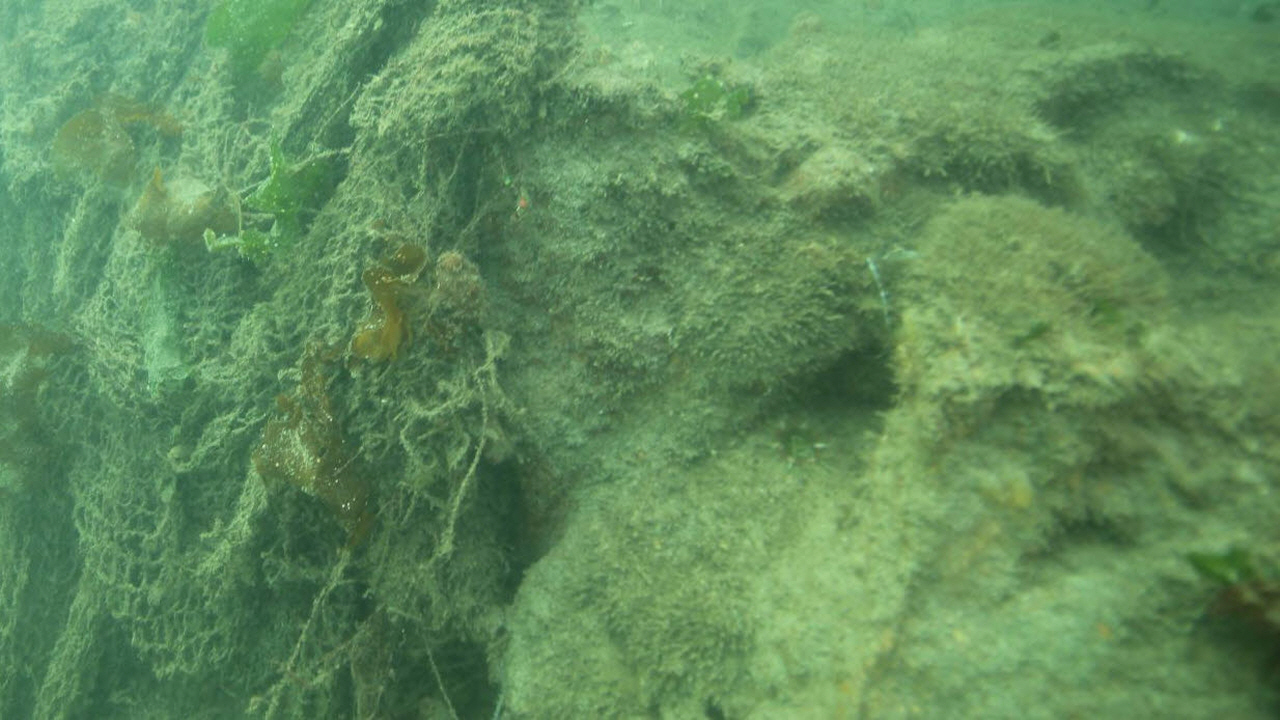fish net: (0, 0, 536, 679)
